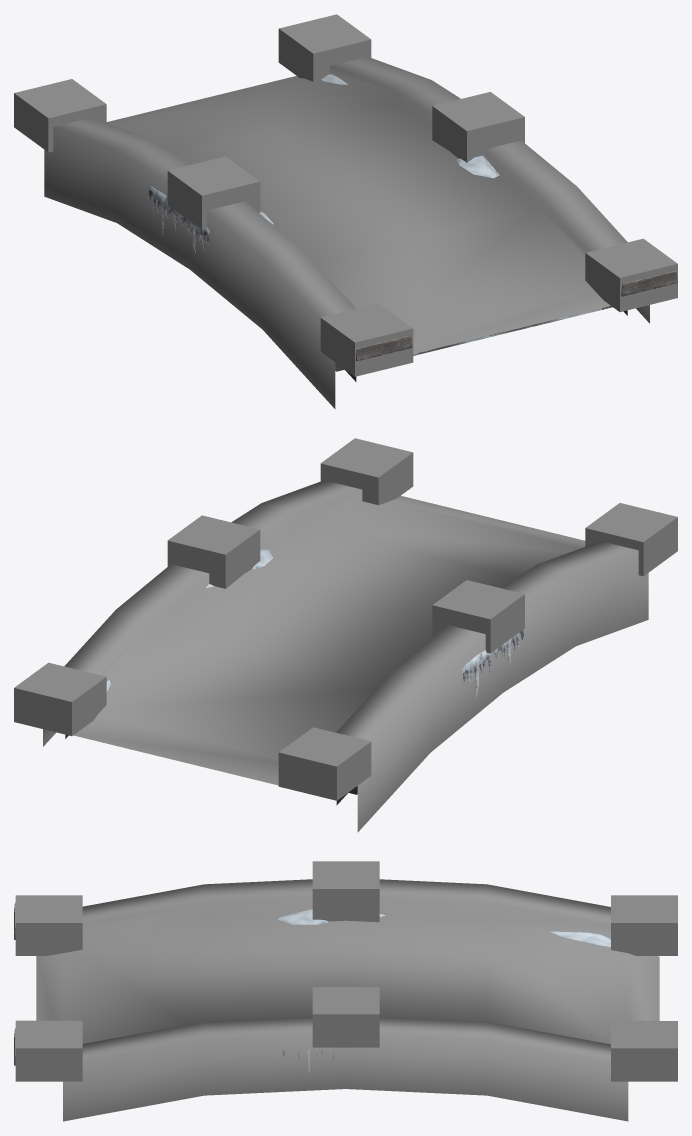
The model's file is Scene_Object_XueShiQiao_1.FBX.
3 views of the same model, one above another, from view 1: azimuth 30°, elevation 25°; view 2: azimuth 150°, elevation 25°; view 3: azimuth 270°, elevation 25° (orthographic). The views are drawn at different scales.
Parts seen in each view (by area): view 1: Scene_Object_XueShiQiao_1_Xzm, Scene_Object_XueShiQiao_1; view 2: Scene_Object_XueShiQiao_1_Xzm, Scene_Object_XueShiQiao_1; view 3: Scene_Object_XueShiQiao_1_Xzm, Scene_Object_XueShiQiao_1.
Boxes of the visible parts, left/top/right/bottom form: Scene_Object_XueShiQiao_1_Xzm: left=14, top=14, right=677, bottom=408; Scene_Object_XueShiQiao_1: left=148, top=74, right=677, bottom=381; Scene_Object_XueShiQiao_1_Xzm: left=14, top=438, right=677, bottom=832; Scene_Object_XueShiQiao_1: left=65, top=549, right=523, bottom=805; Scene_Object_XueShiQiao_1_Xzm: left=15, top=861, right=677, bottom=1121; Scene_Object_XueShiQiao_1: left=14, top=902, right=610, bottom=1072.
Size of the model in its own units: 732 by 262 by 1342.
